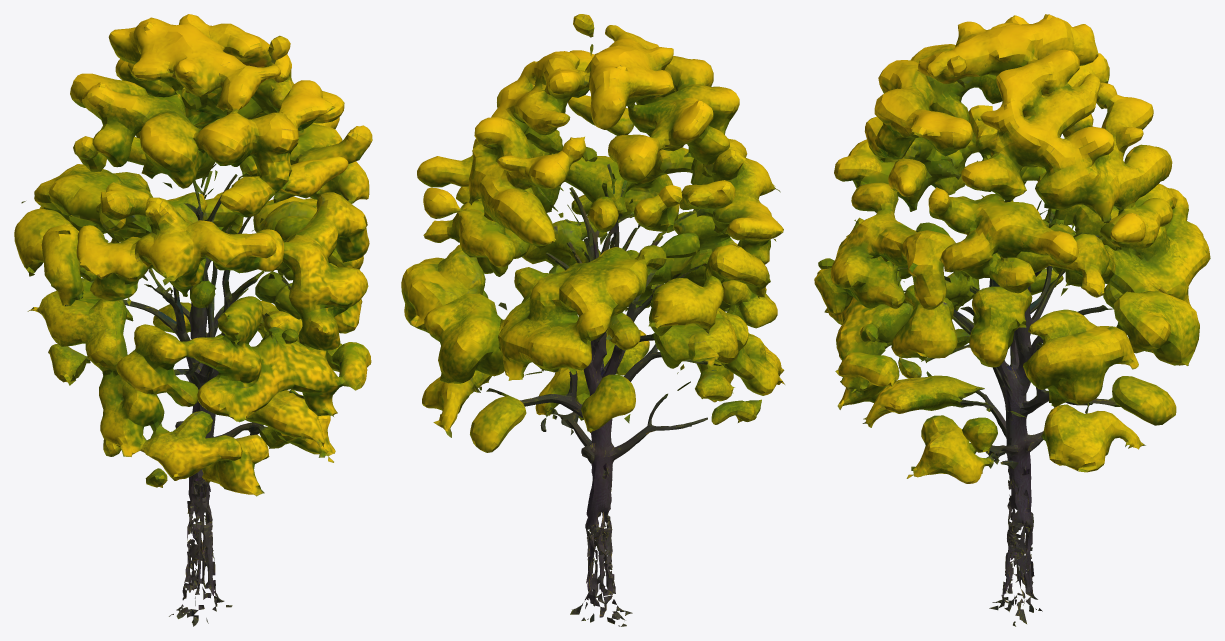
Rendered from veg_tree_maple_01.glb.
3 views of the same model, side by side, from view 1: azimuth 30°, elevation 25°; view 2: azimuth 150°, elevation 25°; view 3: azimuth 270°, elevation 25° (orthographic). The views are drawn at different scales.
Parts seen in each view (by area): view 1: veg_tree_maple_01; view 2: veg_tree_maple_01; view 3: veg_tree_maple_01.
Boxes of the visible parts, box(x1,y1,x2,y2) form: veg_tree_maple_01: box(14, 14, 372, 626); veg_tree_maple_01: box(401, 14, 784, 626); veg_tree_maple_01: box(814, 14, 1210, 626).
Bounding box in the file's own units: 9.97 × 16.98 × 10.5.
Materials: 1 (1 with a texture image).
